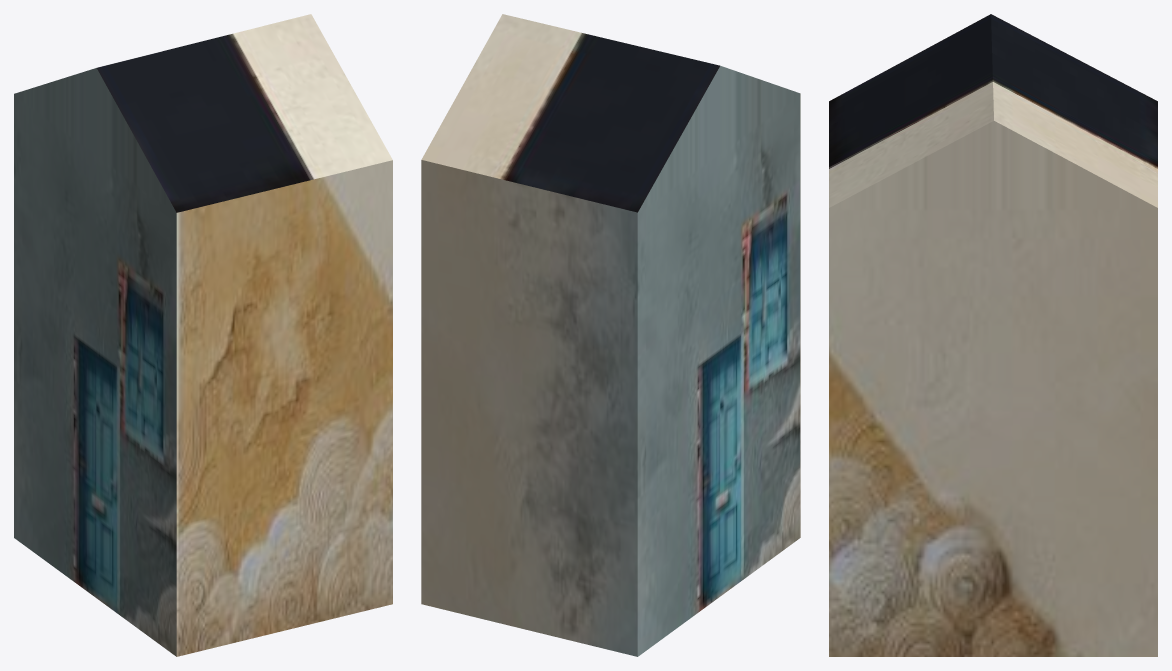
File: house_2.glb
The picture shows the model from 3 angles, left to right: view 1: azimuth 30°, elevation 25°; view 2: azimuth 150°, elevation 25°; view 3: azimuth 270°, elevation 25°; orthographic projection.
Visible parts, largest first — view 1: collisionCasa; view 2: collisionCasa; view 3: collisionCasa.
Part boxes in pixels (bbox=[...]): collisionCasa: bbox=[14, 14, 392, 656]; collisionCasa: bbox=[421, 14, 800, 656]; collisionCasa: bbox=[829, 14, 1157, 656].
Size of the model in its own units: 6.68 by 15.65 by 8.7.
1 material, 1 textured.
